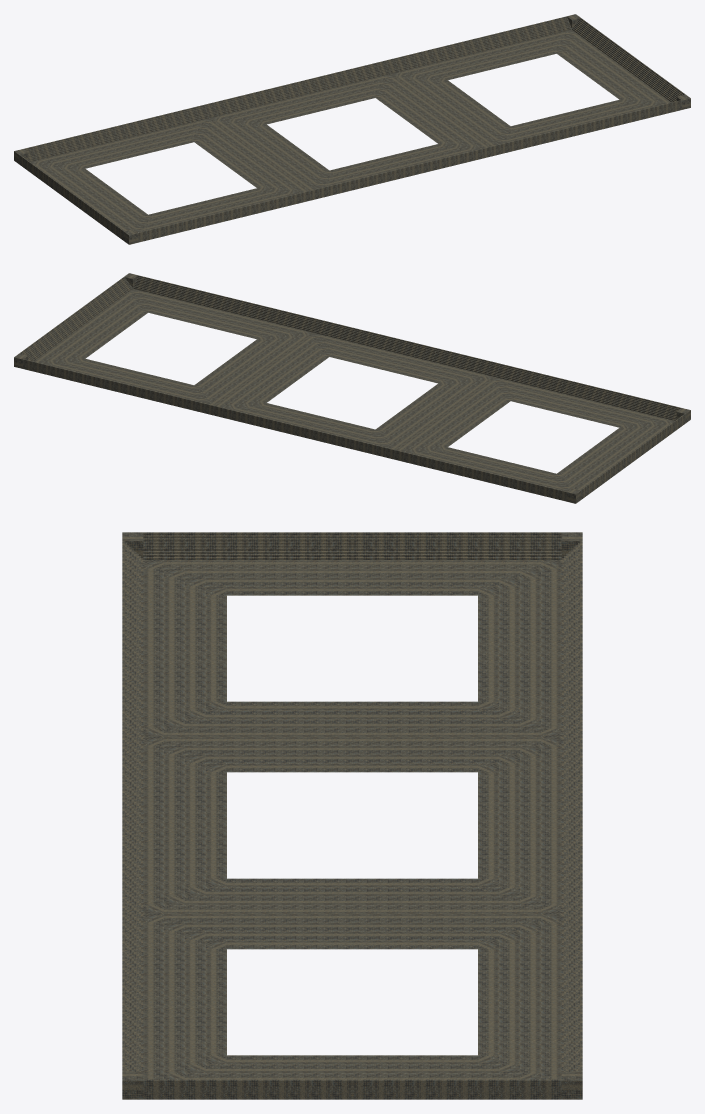
The model's file is m_temple_pyramid_yard_01.fbx.
The picture shows the model from 3 angles, top to bottom: view 1: azimuth 30°, elevation 25°; view 2: azimuth 150°, elevation 25°; view 3: azimuth 270°, elevation 25°; orthographic projection. The views are drawn at different scales.
Visible parts, largest first — view 1: m_pyramid_yard; view 2: m_pyramid_yard; view 3: m_pyramid_yard.
Boxes of the visible parts, <box> form: m_pyramid_yard: <box>14,14,690,244</box>; m_pyramid_yard: <box>14,273,690,503</box>; m_pyramid_yard: <box>122,532,582,1099</box>.
Bounding box in the file's own units: 24800 × 400 × 8800.
